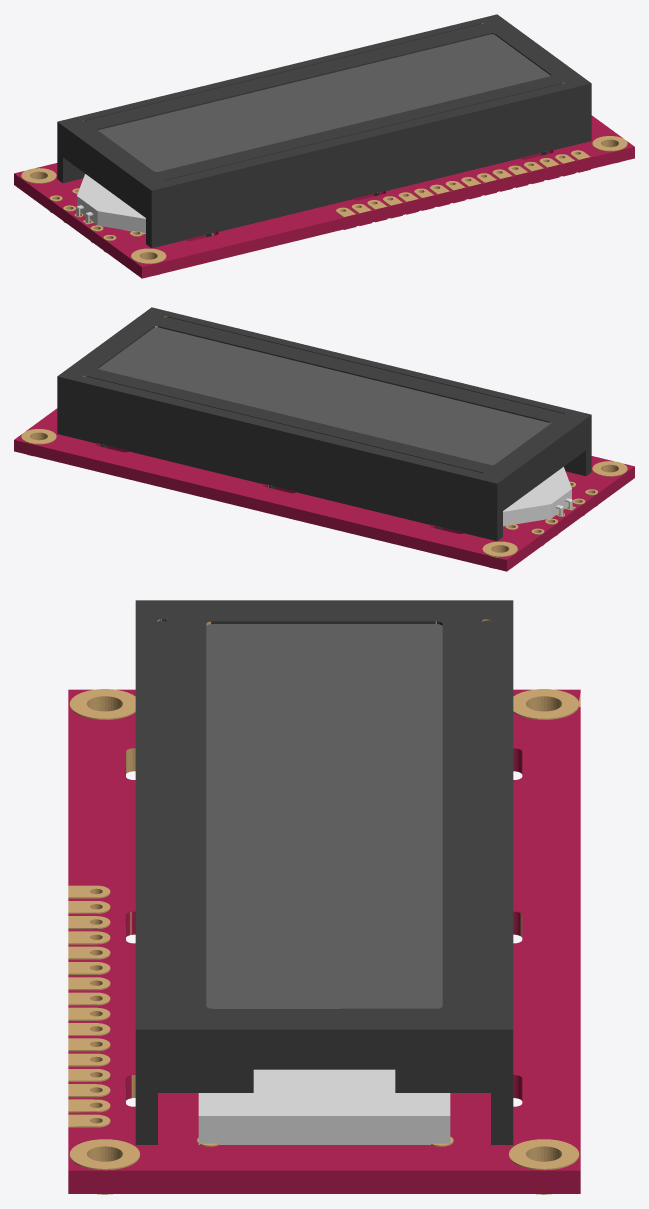
3 views of the same model, one above another, from view 1: azimuth 30°, elevation 25°; view 2: azimuth 150°, elevation 25°; view 3: azimuth 270°, elevation 25° (orthographic). The views are drawn at different scales.
Parts seen in each view (by area): view 1: _067; view 2: _067; view 3: _067.
Part boxes in pixels (x1,y1,x2,y2): _067: (14, 14, 634, 278); _067: (14, 307, 634, 571); _067: (68, 600, 580, 1194).
Size of the model in its own units: 3.15 by 1.42 by 0.4985.
